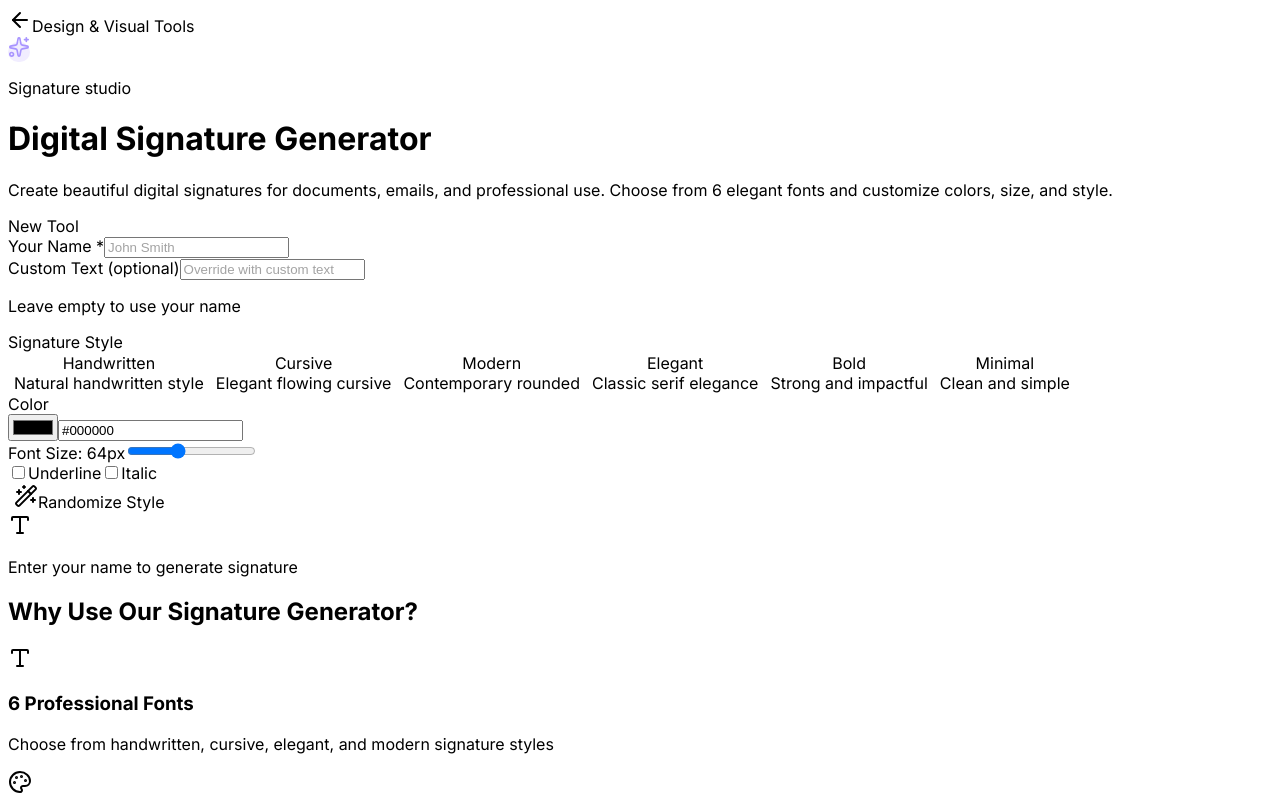
Test: SignatureGeneratorPage › Input Interactions › shows action buttons when name is entered
In the field with placeholder "John Smith": (197,247) [104,237,289,258], type "Test User"
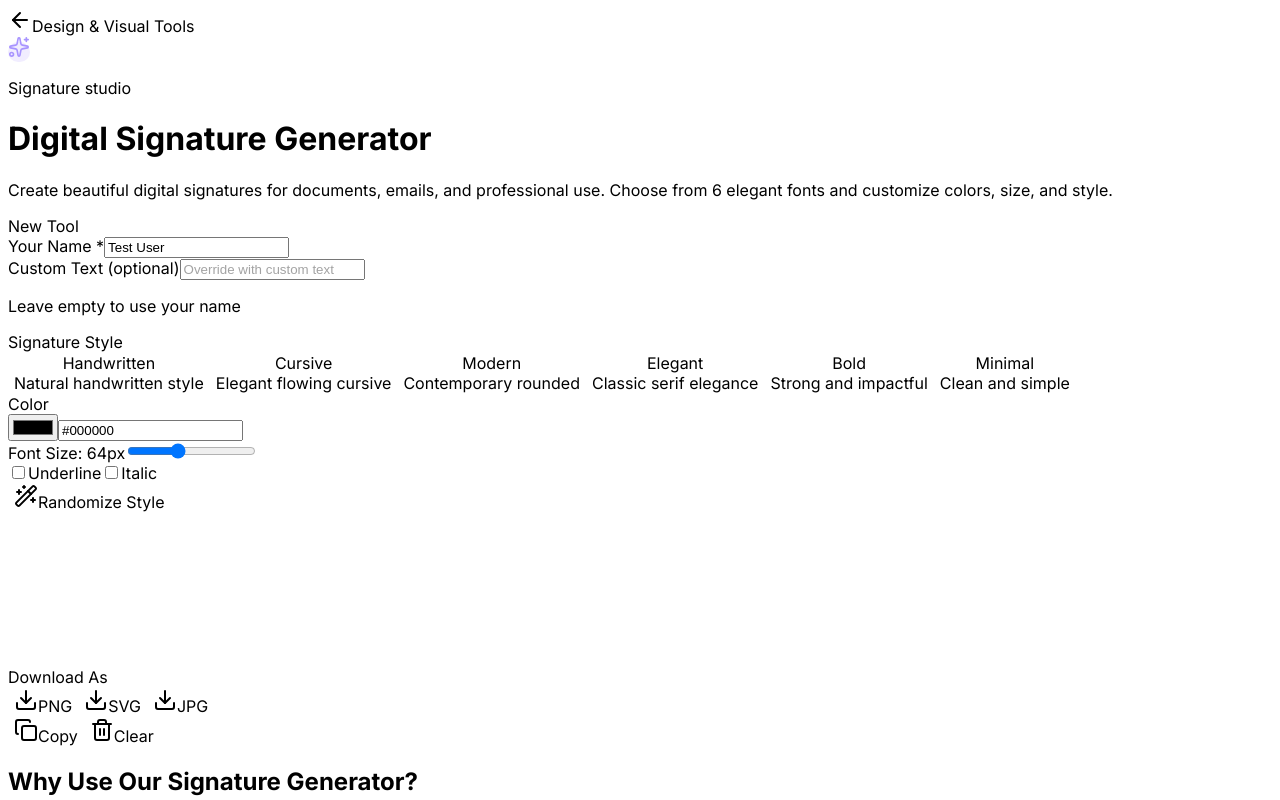
Check: the button "PNG" is shown, box [8,687,78,717]
Check: the button "SVG" is shown, box [78,687,147,717]
Check: the button "JPG" is shown, box [147,687,214,717]
